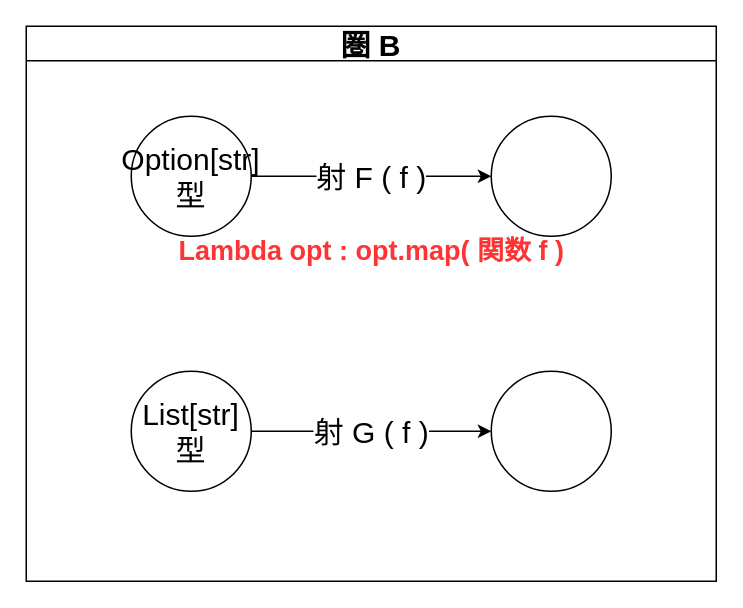
The diagram is 743 pixels wide and 608 high, and some of its shapes have lost their labels. Each missing label, with the centre of its shape:
"List[int] 型" goes at point (550, 430).
"Option[int] 型" goes at point (550, 175).
